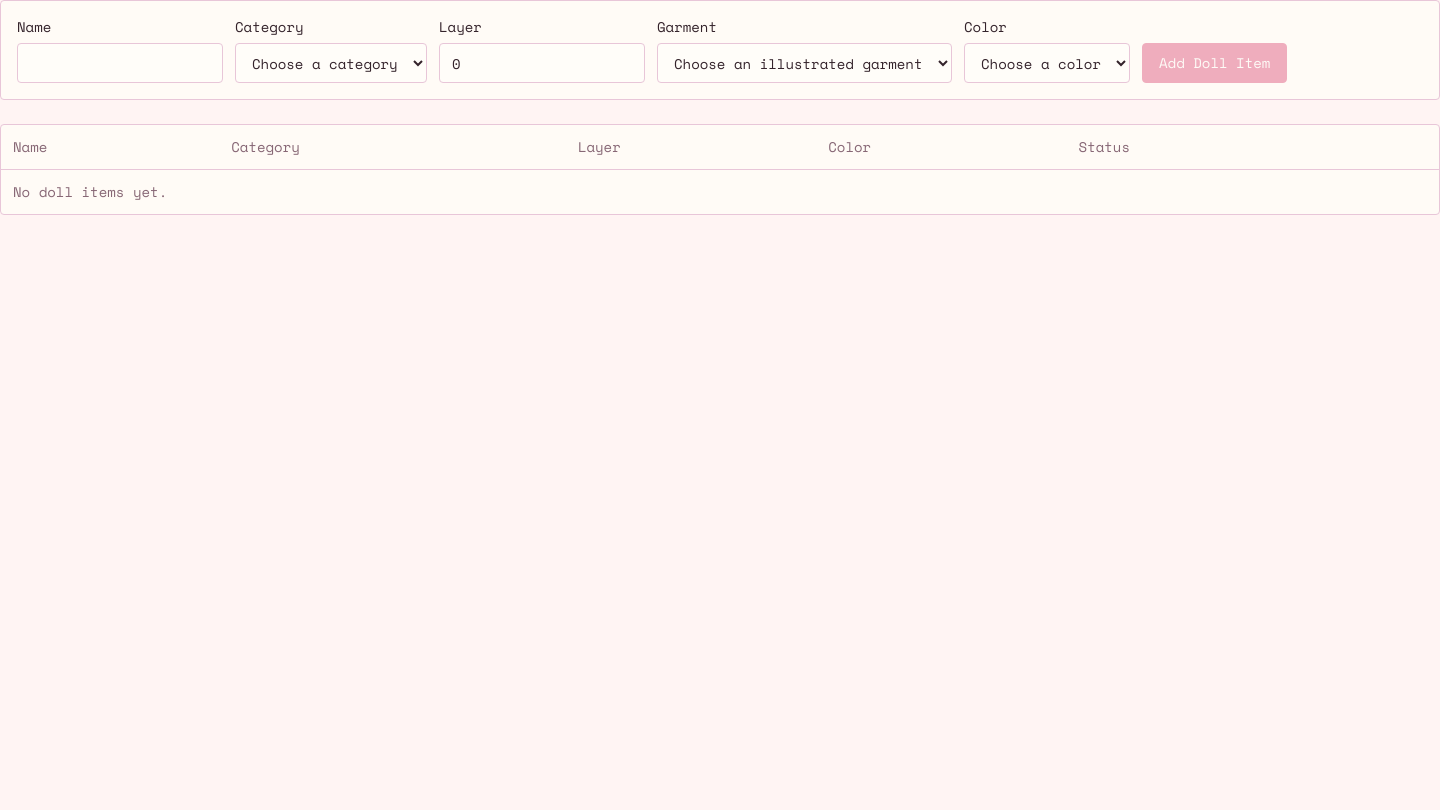
Scenario: DollItemManager › creates a doll item from a curated garment and color
The image size is (1440, 810).
Expected: the text "No doll items yet." is shown, [1,170,1439,214]
Type "Red Hat" into the field labelled "Name" at (120, 63), box [17,43,223,83]
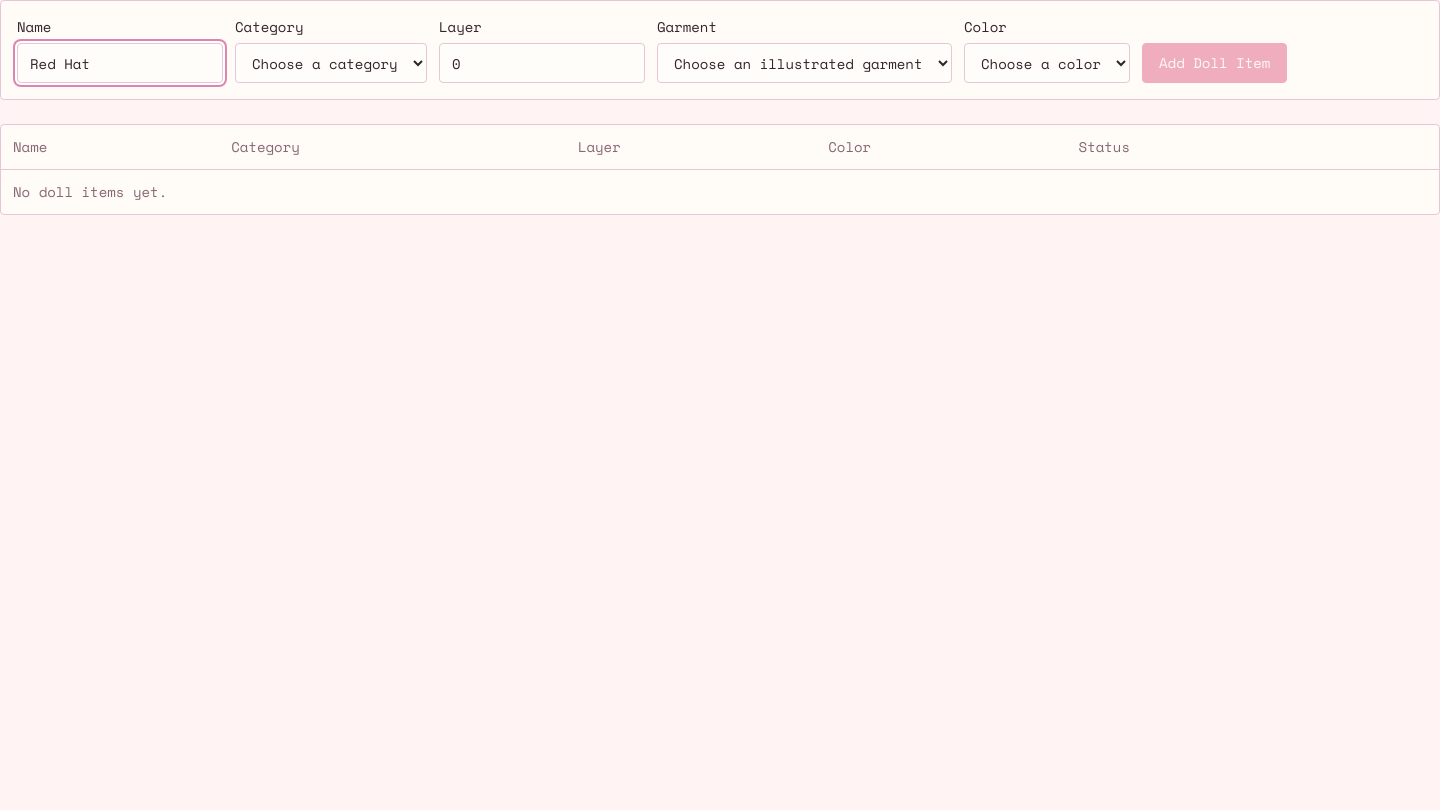
Select "Accessory" in the dropdown labelled "Category" at (331, 63), box [235,43,427,83]
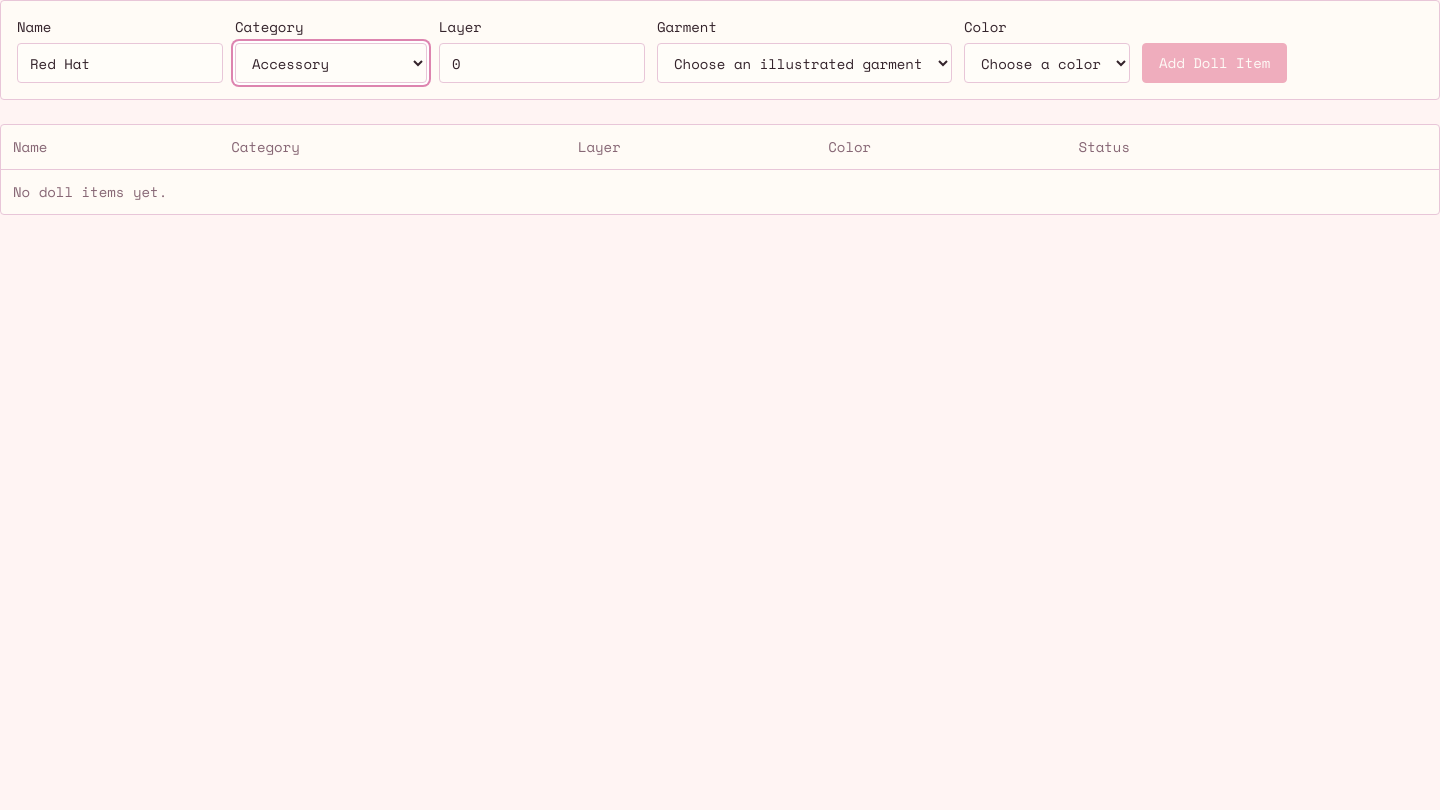
Replace the text in the number field labelled "Layer" with "3" at (542, 63), box [439,43,645,83]
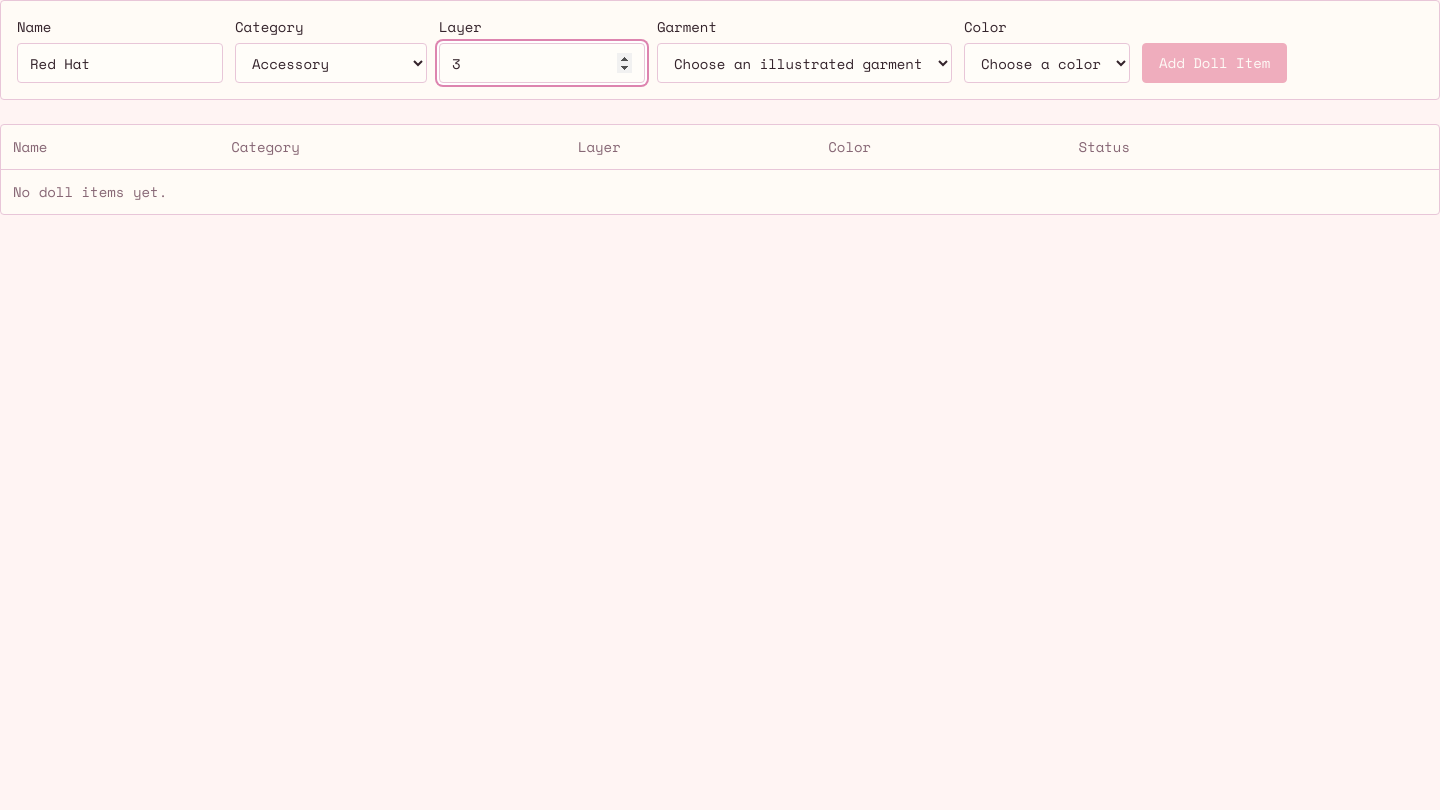
Select "accessory-bag" in the dropdown labelled "Garment" at (804, 63), box [657,43,952,83]
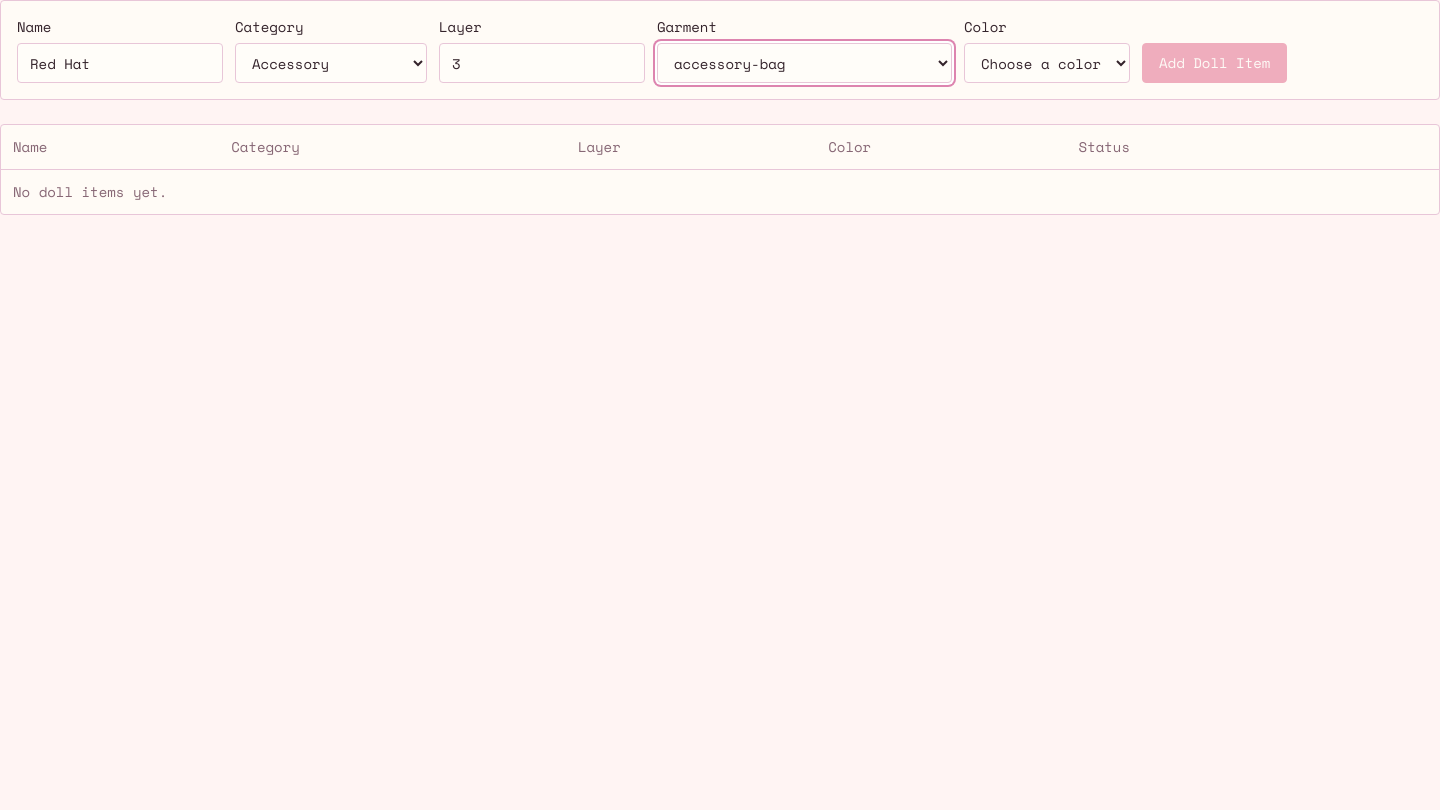
Select "Pastel Pink" in the dropdown labelled "Color" at (1047, 63), box [964,43,1130,83]
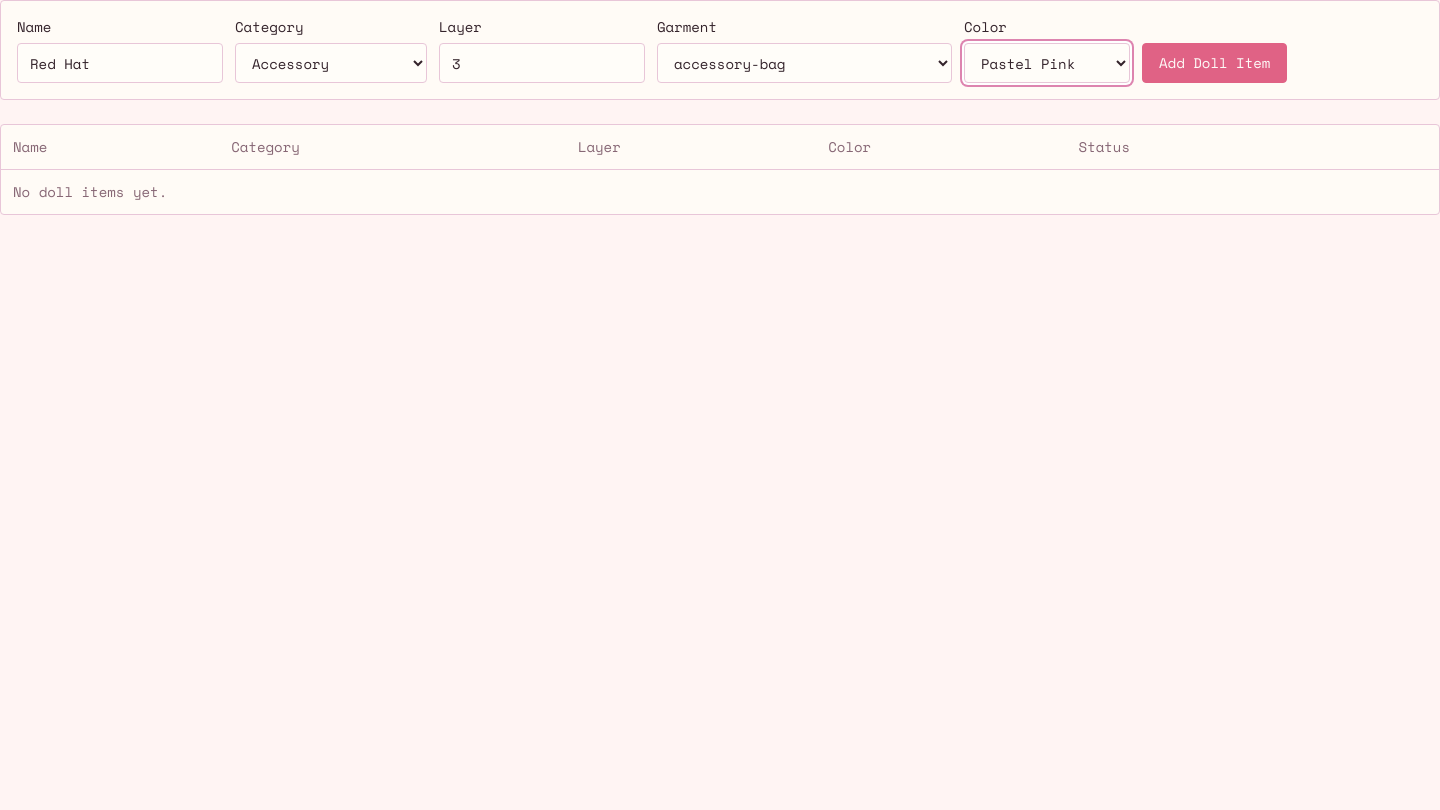
Click the button "Add Doll Item" at (1215, 63), box [1142,43,1287,83]
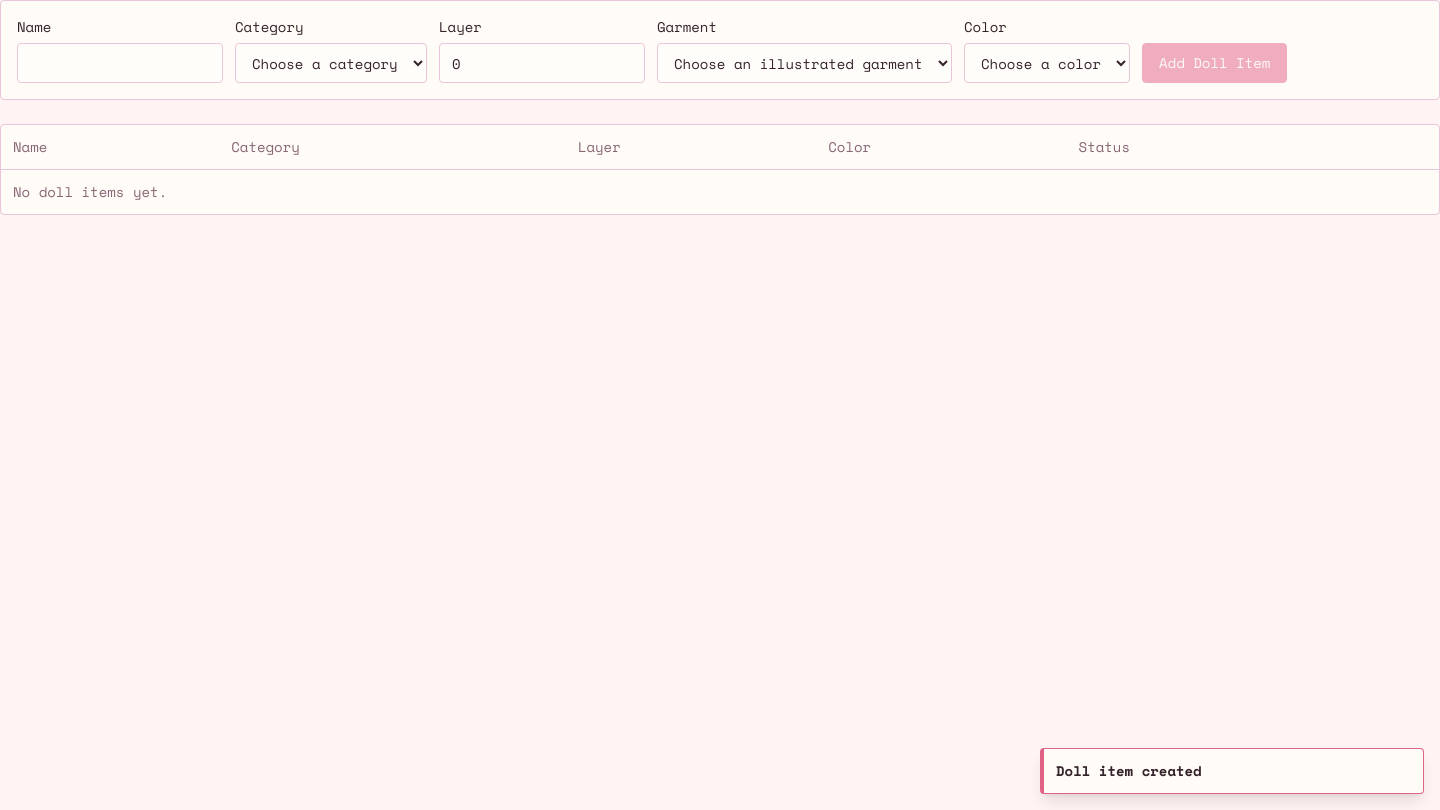
Expected: the text "Doll item created" is shown, [1056,760,1202,781]
